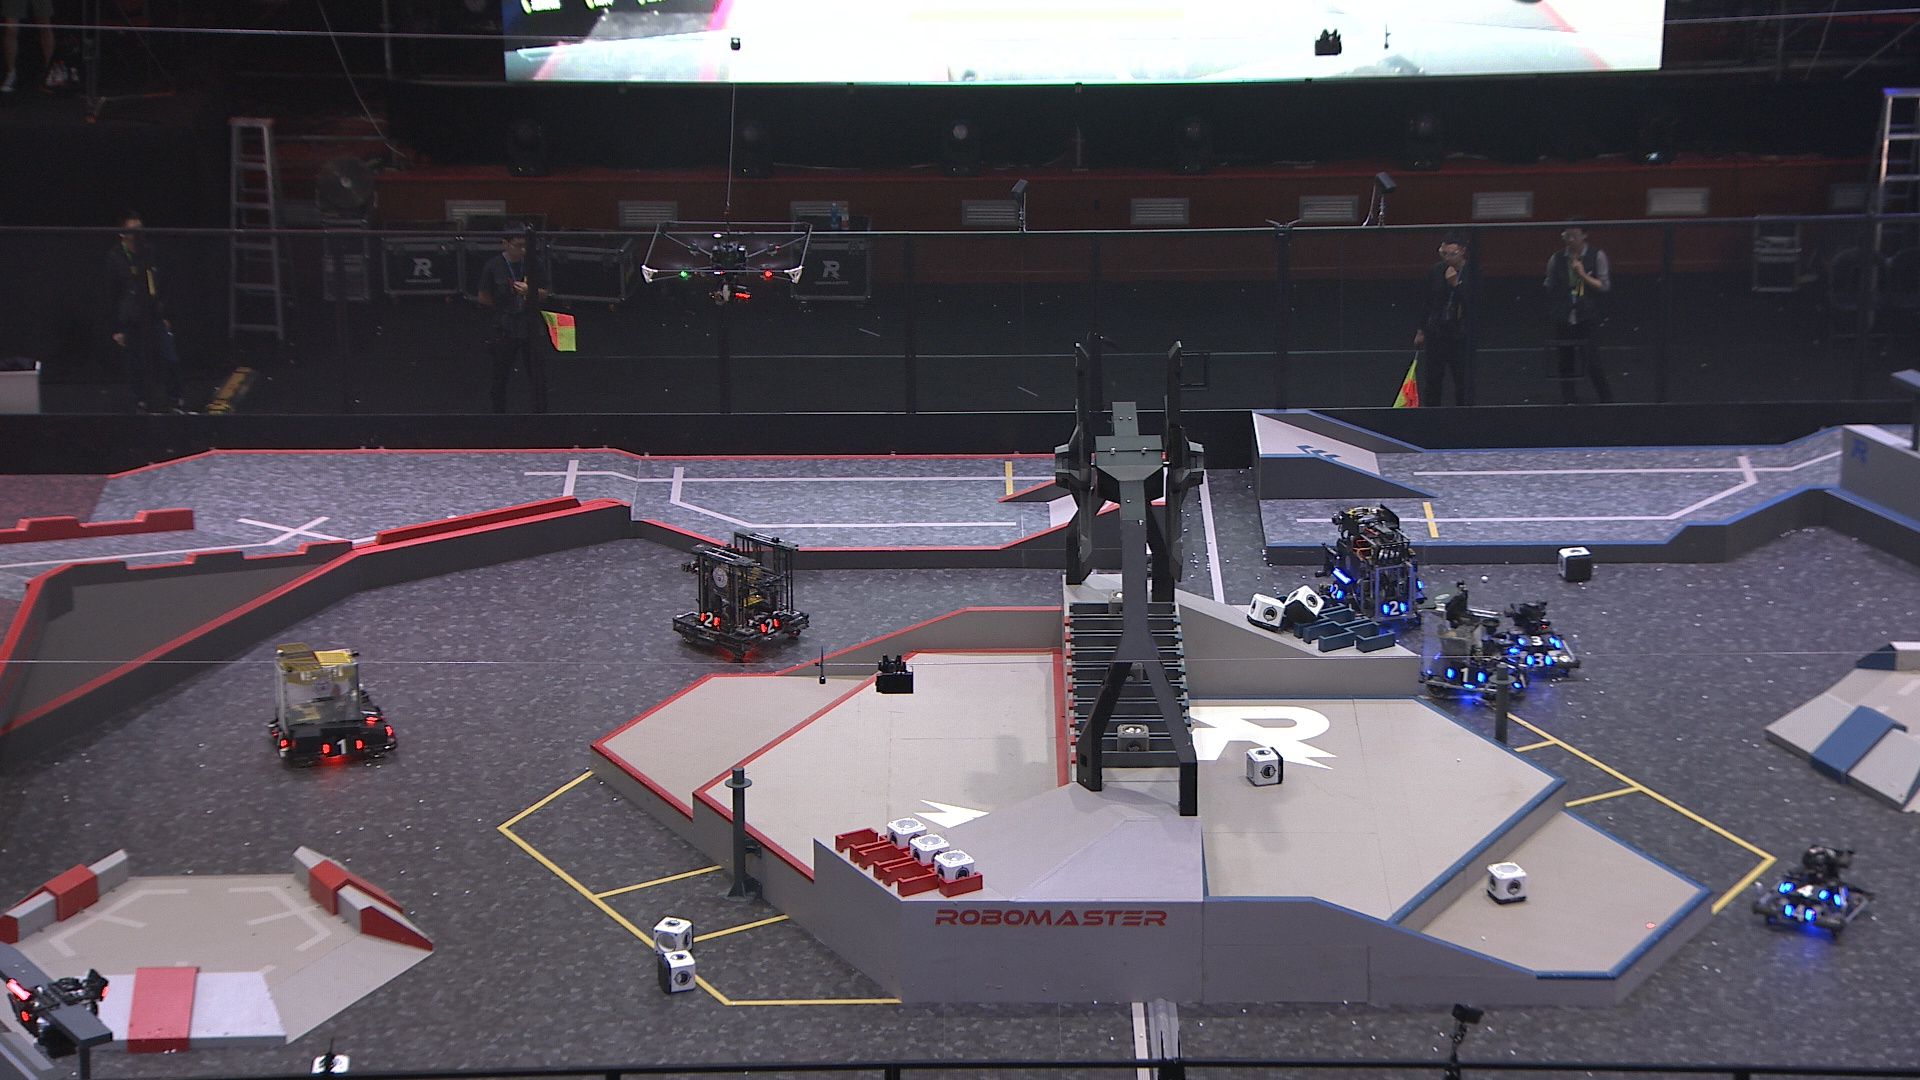armor: (1782, 880, 1826, 898), (320, 738, 365, 756), (7, 993, 29, 1025), (1444, 666, 1481, 684), (698, 608, 721, 632), (1519, 633, 1551, 650), (1784, 905, 1813, 922), (359, 704, 381, 725), (268, 728, 286, 752), (1381, 600, 1404, 617), (1328, 582, 1346, 603), (1524, 651, 1553, 665), (1493, 659, 1516, 674), (1833, 885, 1850, 905), (760, 618, 779, 636), (1514, 671, 1532, 688)
car: (667, 531, 808, 655), (261, 645, 396, 767), (1319, 506, 1429, 640), (1419, 585, 1534, 705), (1753, 845, 1878, 931), (1501, 597, 1586, 680)
watcher: (3, 963, 105, 1062)
